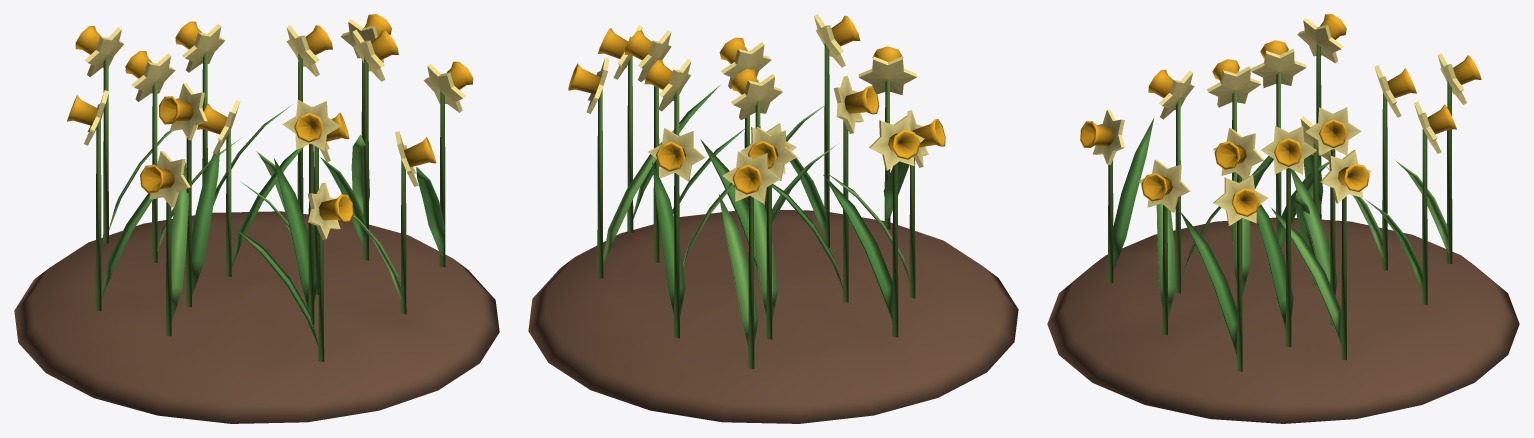
File: daffodils.glb
3 renders of one model, left to right at view 1: azimuth 30°, elevation 25°; view 2: azimuth 150°, elevation 25°; view 3: azimuth 270°, elevation 25°, orthographic. The views are drawn at different scales.
Parts seen in each view (by area): view 1: daffodils; view 2: daffodils; view 3: daffodils.
Boxes of the visible parts, bbox=[...] form: daffodils: bbox=[14, 14, 499, 423]; daffodils: bbox=[528, 14, 1018, 423]; daffodils: bbox=[1047, 14, 1519, 423].
Size of the model in its own units: 0.84 by 0.4912 by 0.84.
